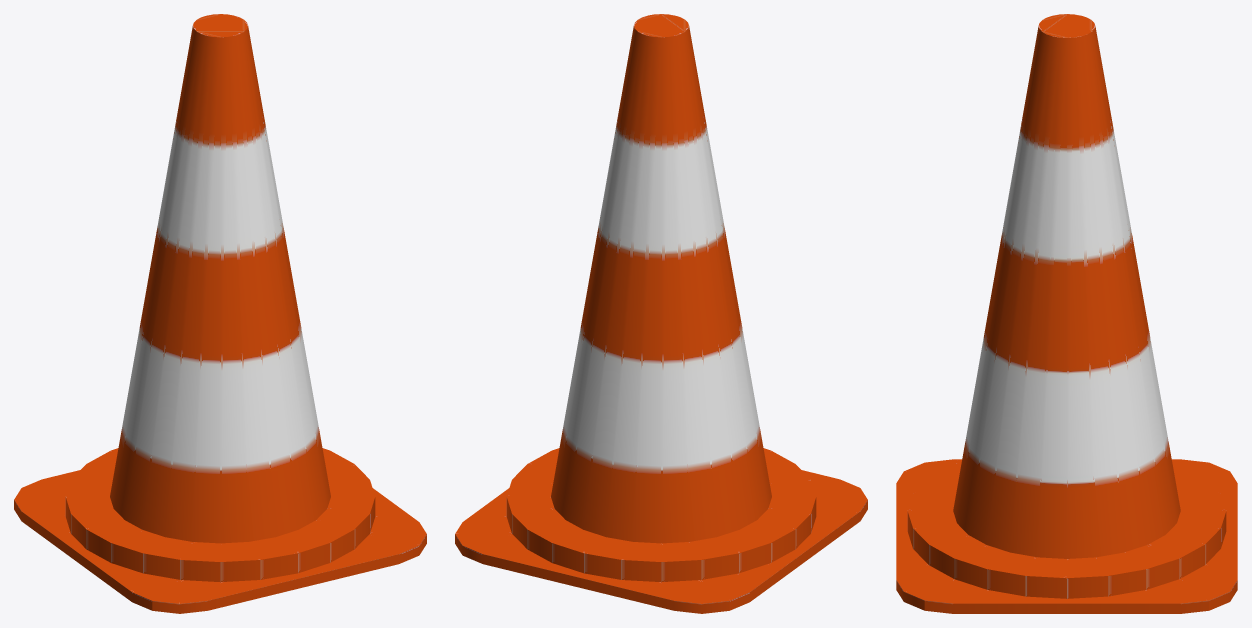
The model's file is traffic_cone_high_poly.fbx.
3 renders of one model, left to right at view 1: azimuth 30°, elevation 25°; view 2: azimuth 150°, elevation 25°; view 3: azimuth 270°, elevation 25°, orthographic. The views are drawn at different scales.
Parts seen in each view (by area): view 1: traffic_cone_high_poly; view 2: traffic_cone_high_poly; view 3: traffic_cone_high_poly.
Boxes of the visible parts, bbox=[...] form: traffic_cone_high_poly: bbox=[14, 14, 426, 613]; traffic_cone_high_poly: bbox=[455, 14, 867, 613]; traffic_cone_high_poly: bbox=[896, 14, 1237, 613].
Size of the model in its own units: 30 by 50 by 30.
